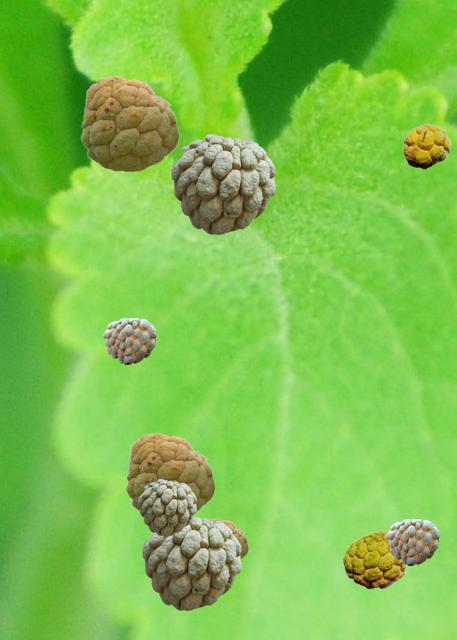atis: (171, 134, 274, 233), (80, 75, 178, 171), (142, 516, 240, 609), (125, 432, 214, 512), (342, 530, 407, 588), (138, 479, 195, 534), (103, 318, 155, 363), (386, 519, 438, 564), (402, 123, 450, 168), (211, 518, 247, 559)
